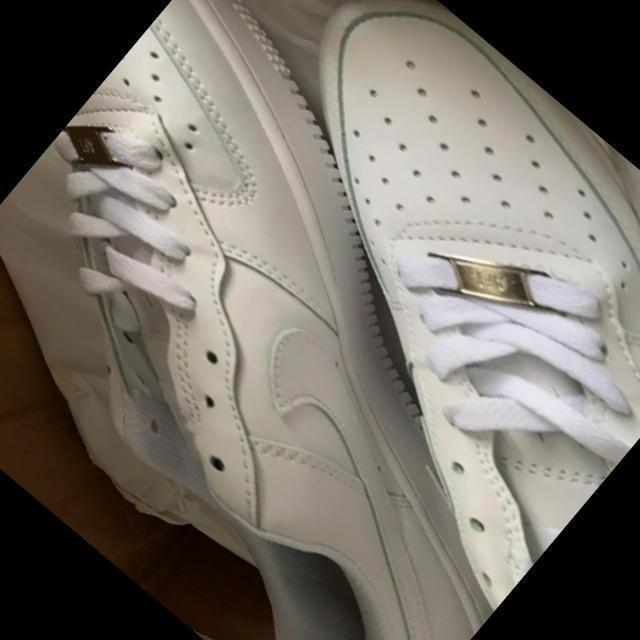nike fake air force: (0, 0, 640, 640), (25, 0, 640, 614)
